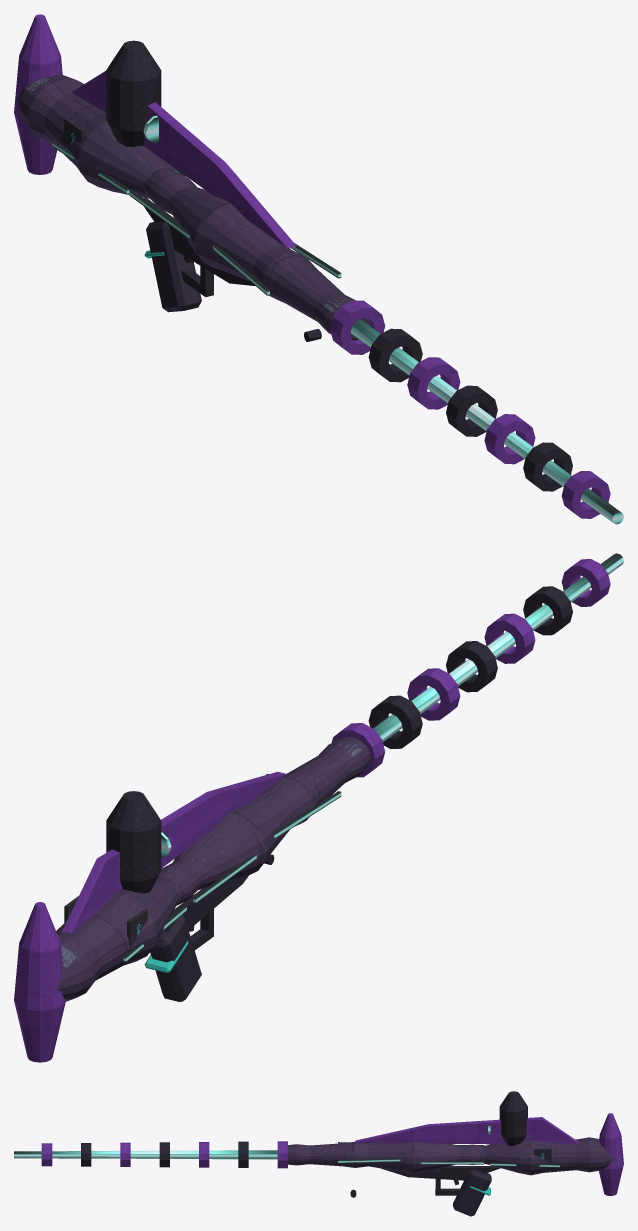
Rendered from hlx_sniper.obj.
3 views of the same model, one above another, from view 1: azimuth 30°, elevation 25°; view 2: azimuth 150°, elevation 25°; view 3: azimuth 270°, elevation 25° (orthographic). The views are drawn at different scales.
Visible parts, largest first — view 1: hlx_sniper; view 2: hlx_sniper; view 3: hlx_sniper.
Part boxes in pixels (x1,y1,x2,y2): hlx_sniper: [14, 14, 623, 524]; hlx_sniper: [14, 553, 623, 1062]; hlx_sniper: [14, 1091, 623, 1216].
Size of the model in its own units: 0.0986 by 0.2834 by 1.29.
1 material, 1 textured.
